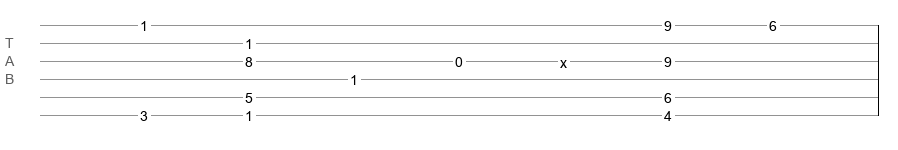0: (455, 54, 463, 64)
1: (140, 18, 148, 28), (245, 108, 253, 118), (245, 36, 253, 46), (350, 72, 358, 82)
3: (140, 108, 148, 118)
4: (664, 108, 672, 118)
5: (245, 90, 253, 100)
6: (664, 90, 672, 100), (769, 18, 777, 28)
8: (245, 54, 253, 64)
9: (664, 18, 672, 28), (664, 54, 672, 64)
x: (560, 55, 567, 63)
